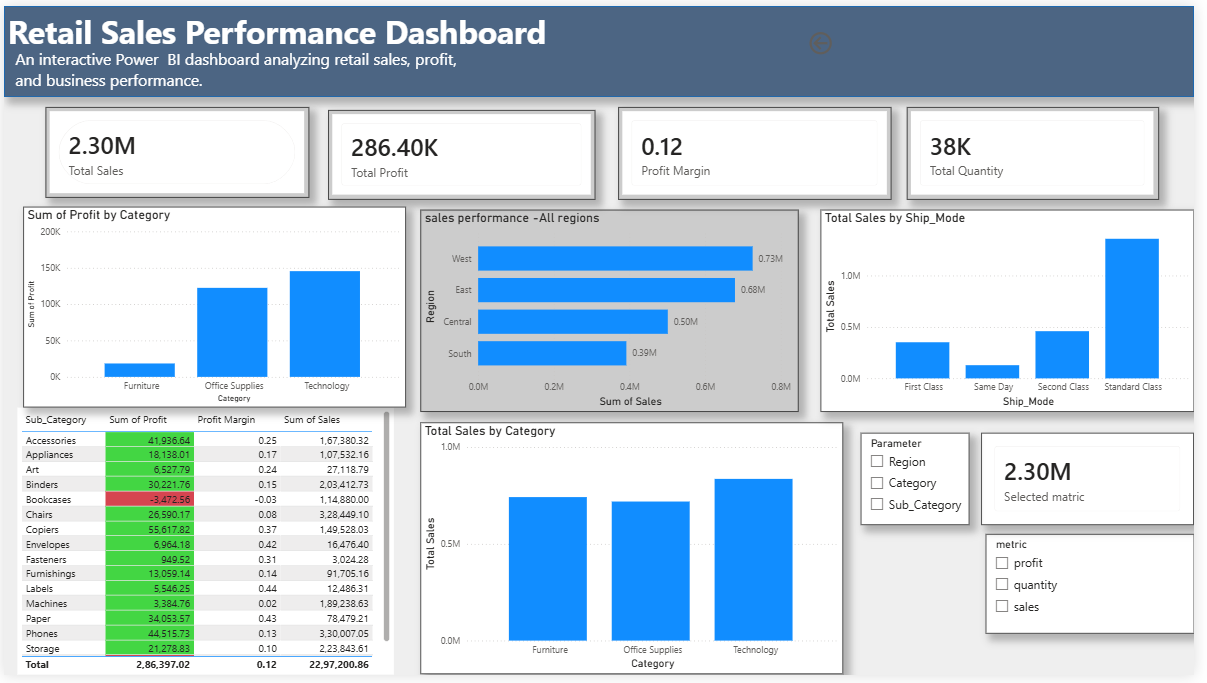

The page's visual inventory and layout, read from the dashboard file:
{"tool":"powerbi","page":{"name":"Page 1","canvas":[1600,900],"ordinal":0},"visuals":[{"type":"shape","box":[0,0,1600,122.4],"z":0},{"type":"barChart","fields":{"Category":["SampleSuperstore.Region"],"Y":["Sum(SampleSuperstore.Sales)"]},"box":[559.2,273.5,508.2,271.4],"z":1000},{"type":"actionButton","box":[1078.3,30,100,40],"z":3000},{"type":"tableEx","fields":{"Values":["SampleSuperstore.Sub_Category","Sum(SampleSuperstore.Profit)","Metric.Profit Margin","Sum(SampleSuperstore.Sales)"]},"box":[18.4,540.8,506.1,359.2],"z":7000},{"type":"slicer","fields":{"Values":["Metric.metric"]},"box":[1320,710,280,134],"z":9000},{"type":"cardVisual","fields":{"Data":["Metric.Selected matric"]},"box":[1314,574,286,124],"z":10000},{"type":"clusteredColumnChart","fields":{"Category":["SampleSuperstore.Region","SampleSuperstore.Category","SampleSuperstore.Sub_Category"],"Y":["Metric.Total Sales"]},"box":[560,560,568,338],"z":11000},{"type":"slicer","fields":{"Values":["Parameter.Parameter"]},"box":[1152,574,146,124],"z":12000},{"type":"cardVisual","fields":{"Data":["Metric.Total Sales"]},"box":[55.1,136.7,354,122],"z":13000},{"type":"cardVisual","fields":{"Data":["Metric.Total Profit"]},"box":[436.7,140.8,359.2,120.4],"z":14000},{"type":"cardVisual","fields":{"Data":["Metric.Profit Margin"]},"box":[826.5,136.7,367.3,124.5],"z":15000},{"type":"cardVisual","fields":{"Data":["Metric.Total Quantity"]},"box":[1214.3,136.7,338.8,124.5],"z":16000},{"type":"columnChart","fields":{"Category":["SampleSuperstore.Category"],"Y":["Sum(SampleSuperstore.Profit)"]},"box":[26.5,269.4,514.3,269.4],"z":17000},{"type":"columnChart","fields":{"Category":["SampleSuperstore.Ship_Mode"],"Y":["Metric.Total Sales"]},"box":[1098,273.5,502,271.4],"z":18000},{"type":"textbox","box":[0,0,769.4,69.4],"z":19000},{"type":"textbox","box":[10.2,51,616.3,71.4],"z":20000}]}

Visuals, with their boxes in screenshot pixels (x1, y1, x2, y2), scaled from the page's 1600x900 canvas onto the 1207x683 screenshot:
shape: [x1=0, y1=0, x2=1206, y2=93]
barChart - SampleSuperstore.Region x Sum(SampleSuperstore.Sales): [x1=422, y1=208, x2=805, y2=414]
actionButton: [x1=813, y1=23, x2=889, y2=53]
tableEx - SampleSuperstore.Sub_Category x Sum(SampleSuperstore.Profit): [x1=14, y1=410, x2=396, y2=682]
slicer - Metric.metric: [x1=996, y1=539, x2=1206, y2=641]
cardVisual - Metric.Selected matric: [x1=991, y1=436, x2=1206, y2=530]
clusteredColumnChart - SampleSuperstore.Region x SampleSuperstore.Category: [x1=422, y1=425, x2=851, y2=681]
slicer - Parameter.Parameter: [x1=869, y1=436, x2=979, y2=530]
cardVisual - Metric.Total Sales: [x1=42, y1=104, x2=309, y2=196]
cardVisual - Metric.Total Profit: [x1=329, y1=107, x2=600, y2=198]
cardVisual - Metric.Profit Margin: [x1=623, y1=104, x2=901, y2=198]
cardVisual - Metric.Total Quantity: [x1=916, y1=104, x2=1172, y2=198]
columnChart - SampleSuperstore.Category x Sum(SampleSuperstore.Profit): [x1=20, y1=204, x2=408, y2=409]
columnChart - SampleSuperstore.Ship_Mode x Metric.Total Sales: [x1=828, y1=208, x2=1206, y2=414]
textbox: [x1=0, y1=0, x2=580, y2=53]
textbox: [x1=8, y1=39, x2=473, y2=93]
